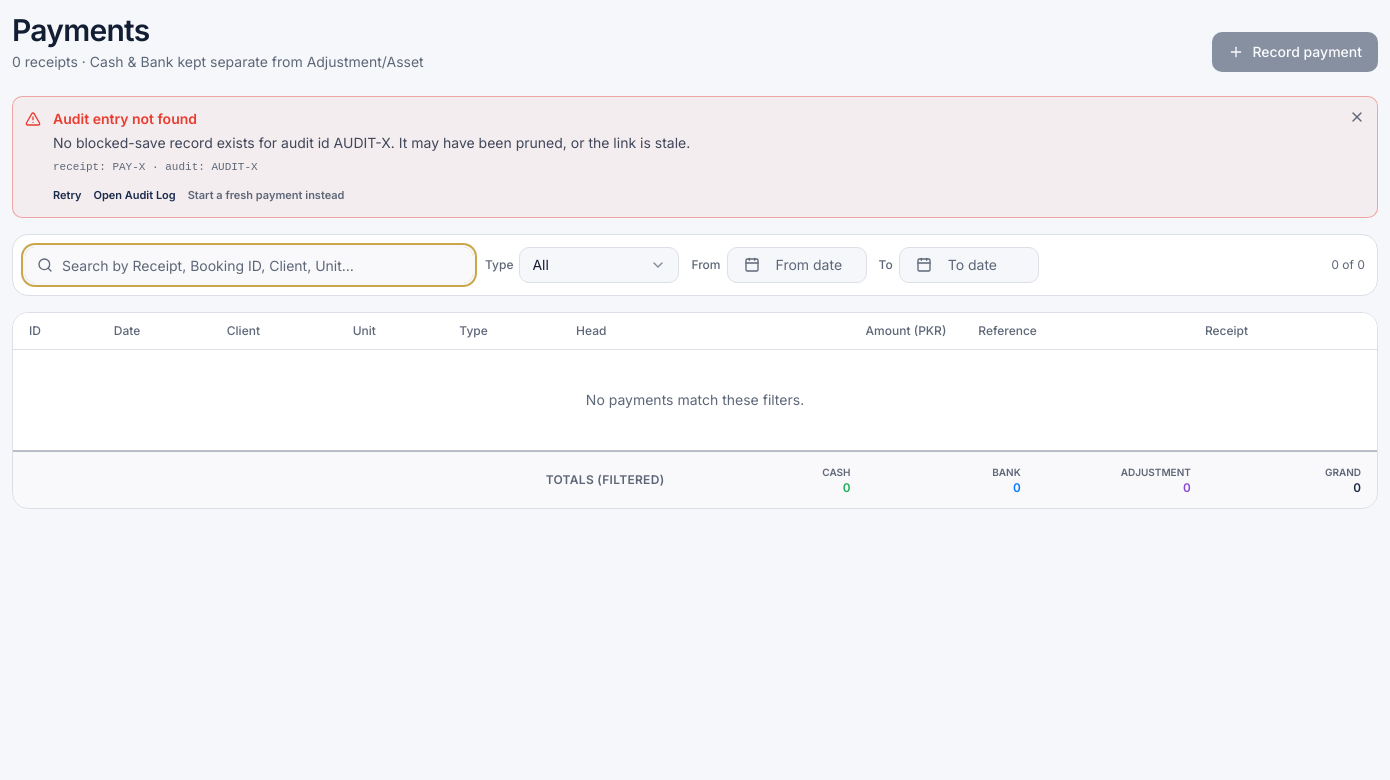
Payments: 'R' inside nested filter inputs never triggers the replay retry › typing R into the search Input, a nested <textarea>, or a contenteditable inside the page subtree never re-fetches the audit; plain R on the body still does
Check: the message with test id "replay-error-banner" is shown, box [12, 96, 1378, 218]
Press r in the field with placeholder "Search by Receipt, Booking ID, Client, Unit…", box [25, 247, 473, 283]
Press r in the field with placeholder "Search by Receipt, Booking ID, Client, Unit…", box [25, 247, 473, 283]
Press R in the field with placeholder "Search by Receipt, Booking ID, Client, Unit…", box [25, 247, 473, 283]
Press R in the field with placeholder "Search by Receipt, Booking ID, Client, Unit…", box [25, 247, 473, 283]
Check: the message with test id "replay-error-banner" is shown, box [12, 96, 1378, 218]
Type "Receipt-R" into the field with placeholder "Search by Receipt, Booking ID, Client, Unit…" at (249, 265), box [25, 247, 473, 283]
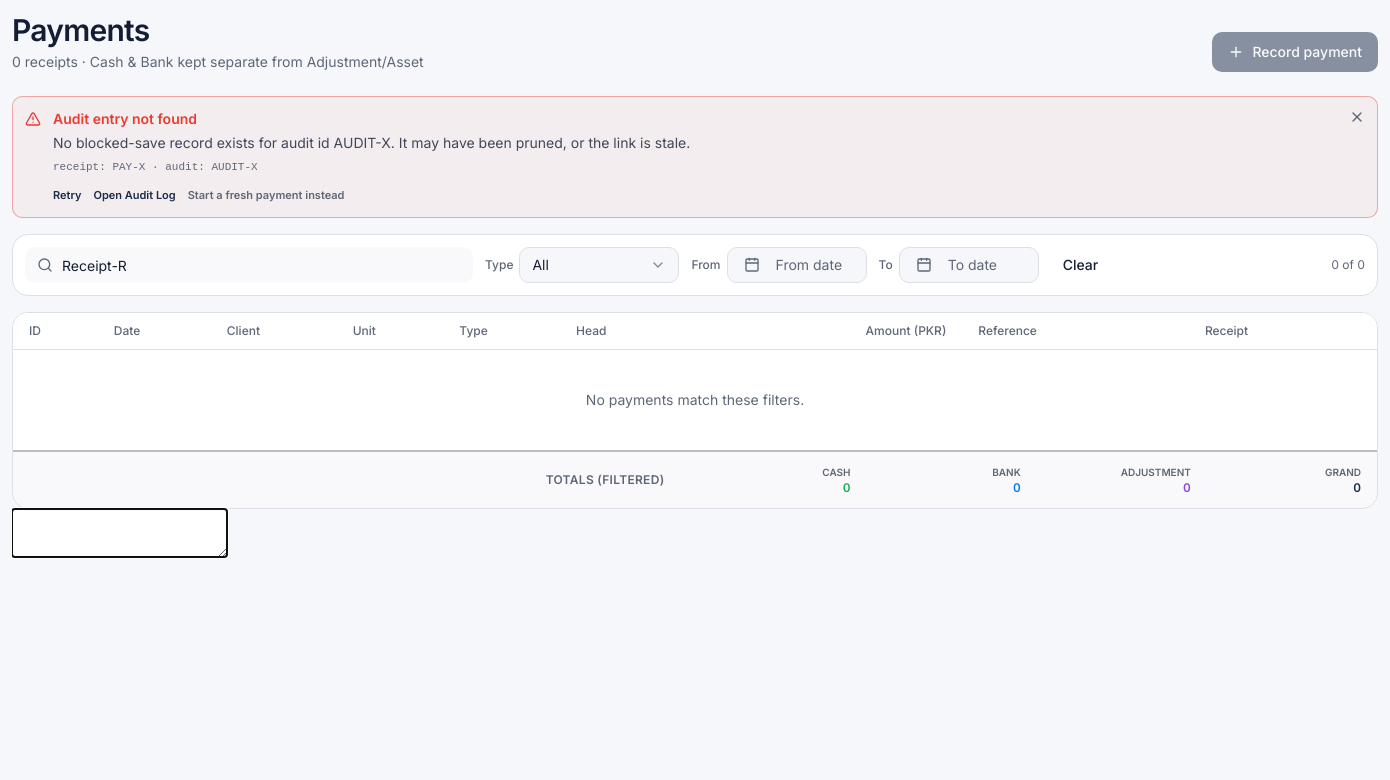
Press R in the text box, box [12, 509, 227, 557]
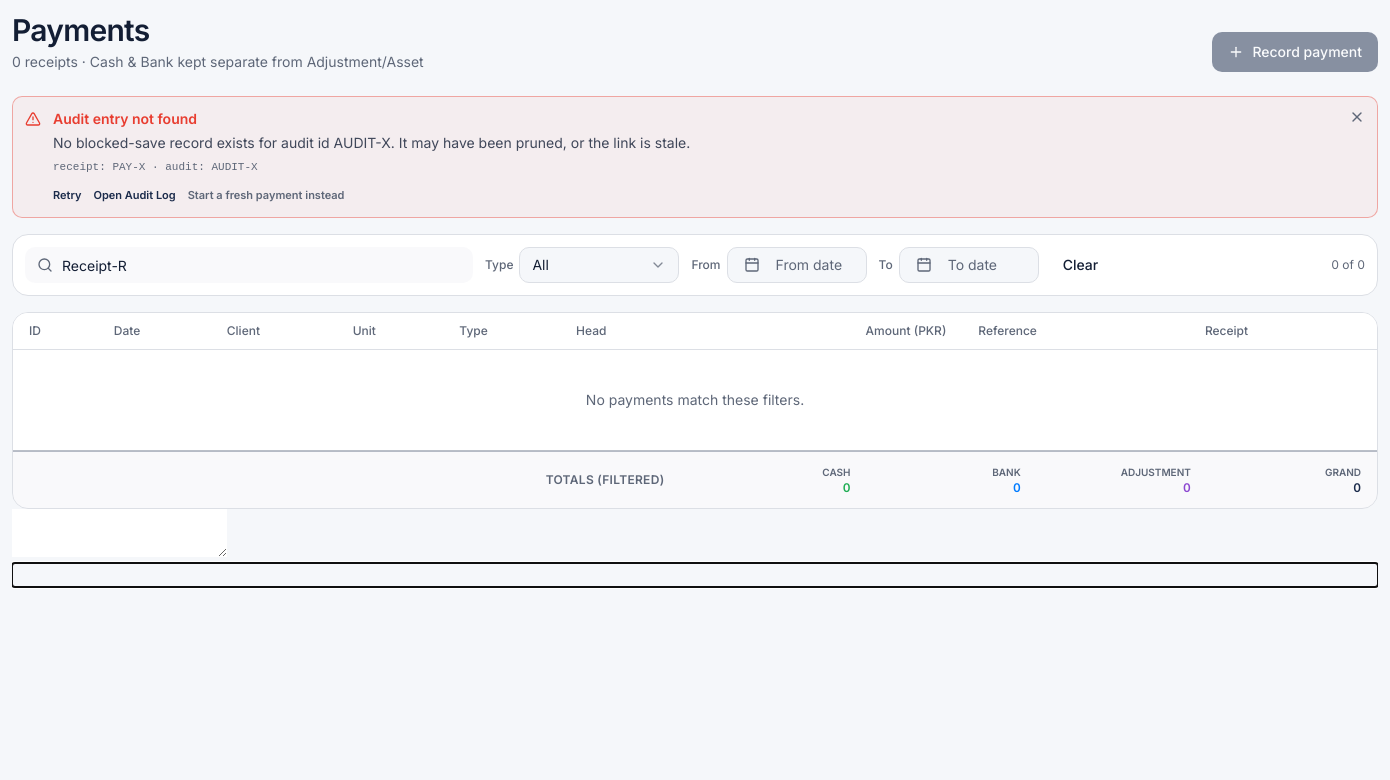
Check: the message with test id "replay-error-banner" is shown, box [12, 96, 1378, 218]
Press r in the 2nd text box, box [12, 563, 1378, 587]
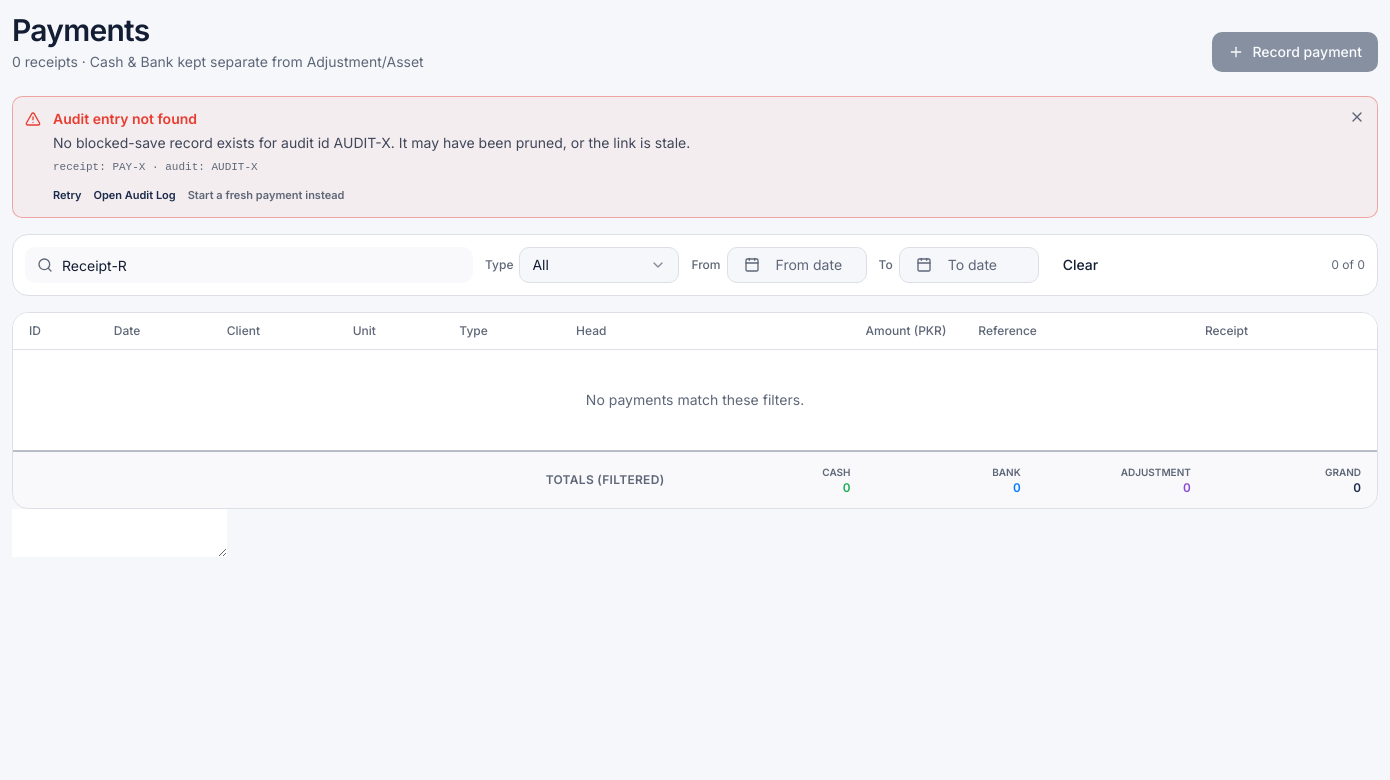
Press R
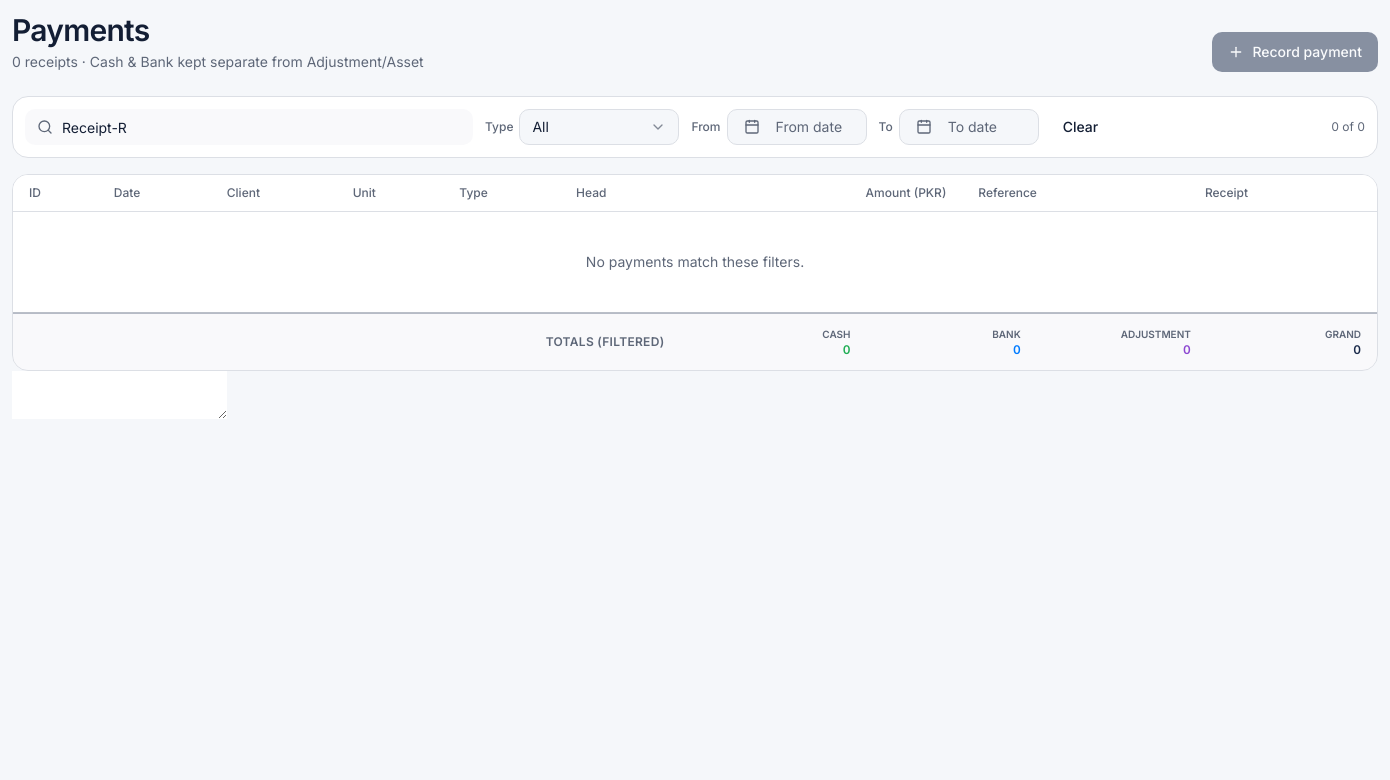
Check: the message with test id "replay-error-banner" is gone
